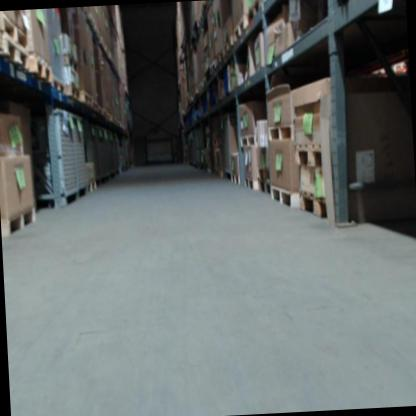pallet: (0, 30, 31, 72), (1, 204, 36, 238), (0, 9, 29, 49), (298, 189, 328, 217), (269, 183, 299, 210), (27, 52, 51, 85), (294, 142, 324, 168), (266, 123, 293, 142), (245, 0, 263, 23), (232, 15, 247, 41), (80, 89, 93, 110), (222, 34, 234, 56), (52, 77, 66, 94), (240, 133, 256, 147), (244, 176, 258, 190), (68, 86, 80, 102), (258, 179, 271, 193), (216, 49, 224, 65), (231, 173, 241, 184), (85, 182, 96, 191)
stillage: (26, 104, 76, 211), (37, 8, 68, 94), (214, 111, 243, 180), (71, 109, 88, 198), (80, 121, 100, 187), (185, 128, 204, 170), (93, 125, 106, 186), (109, 129, 118, 183), (114, 127, 122, 181), (103, 128, 111, 180)
